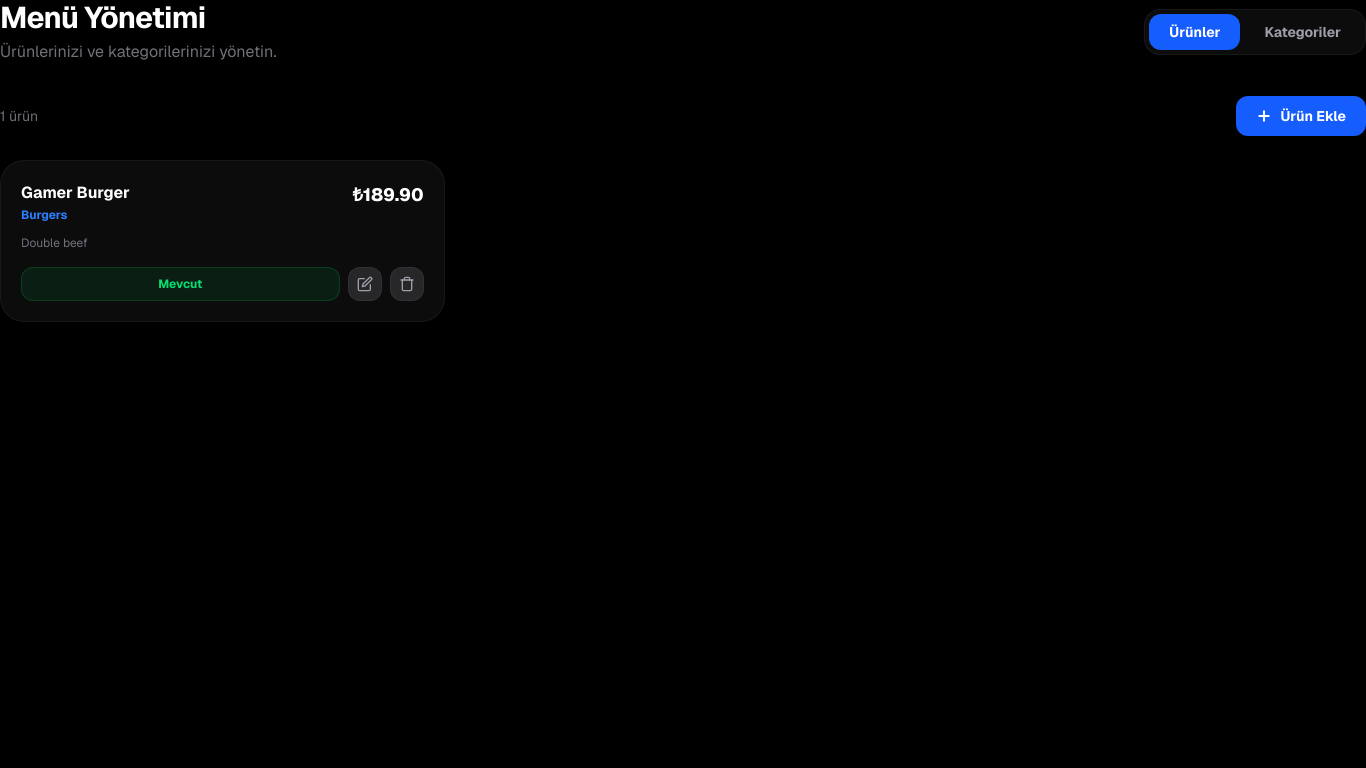
Test: Admin Menu Page › Products Tab › should open create product modal
The width and height of the screenshot is (1366, 768).
Step 1. Click the button "Ürün Ekle" → (1301, 116), box [1236,96,1365,136]
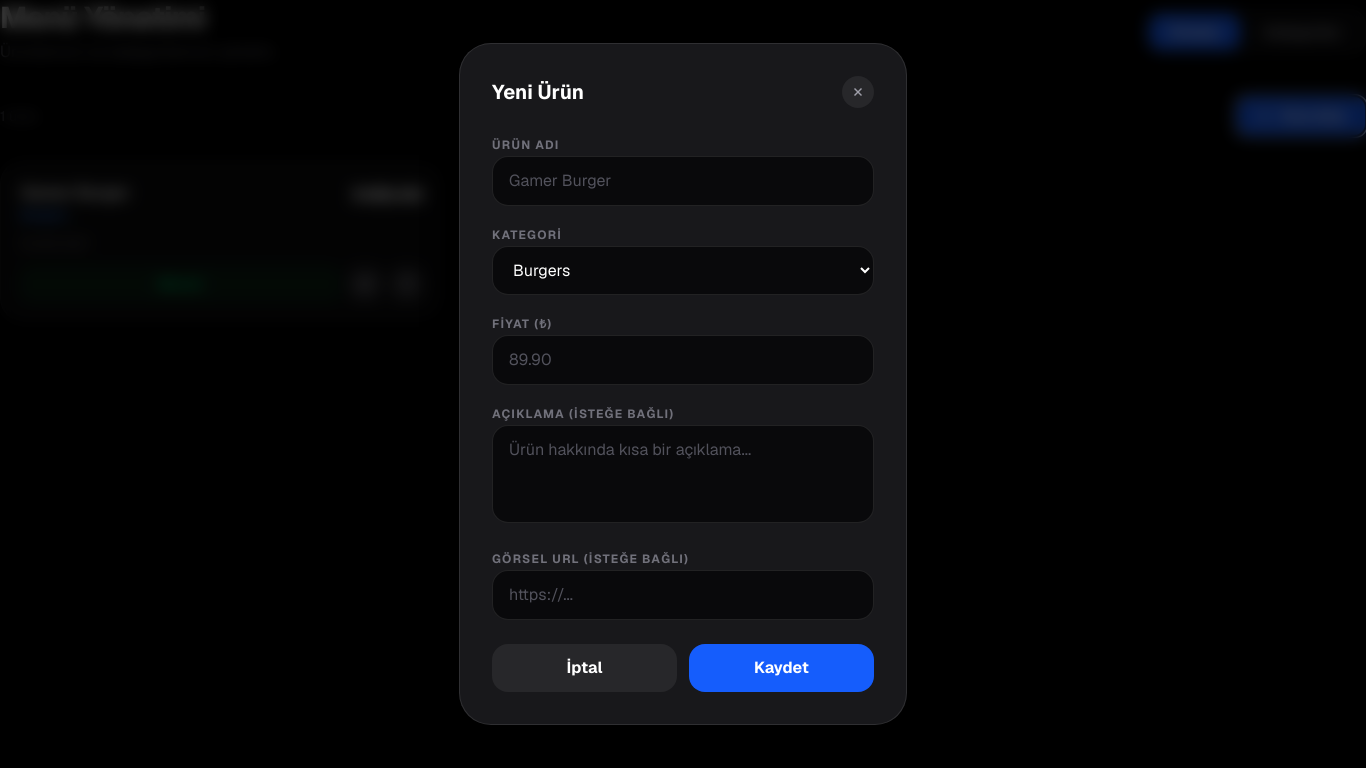
Expected: the heading "Yeni Ürün" is shown, [492,78,584,106]
